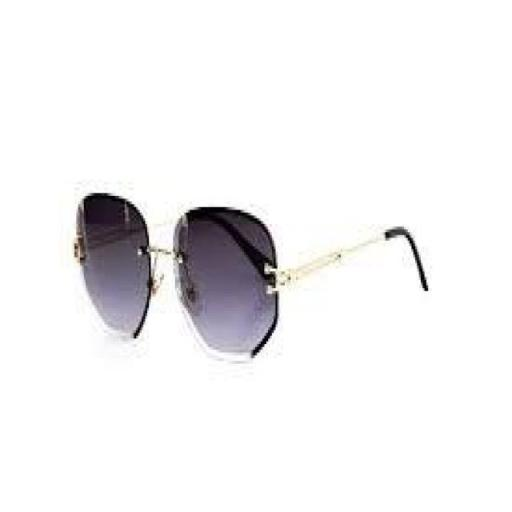glasses: (53, 170, 303, 386)
